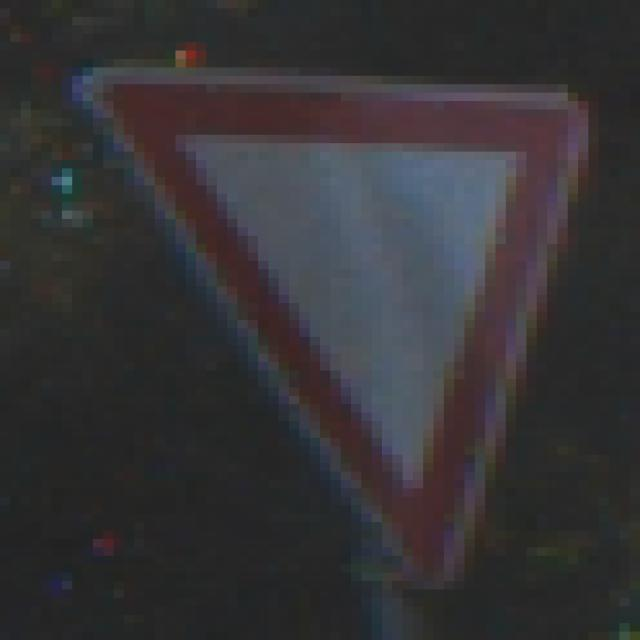Give Way: (63, 60, 589, 590)
